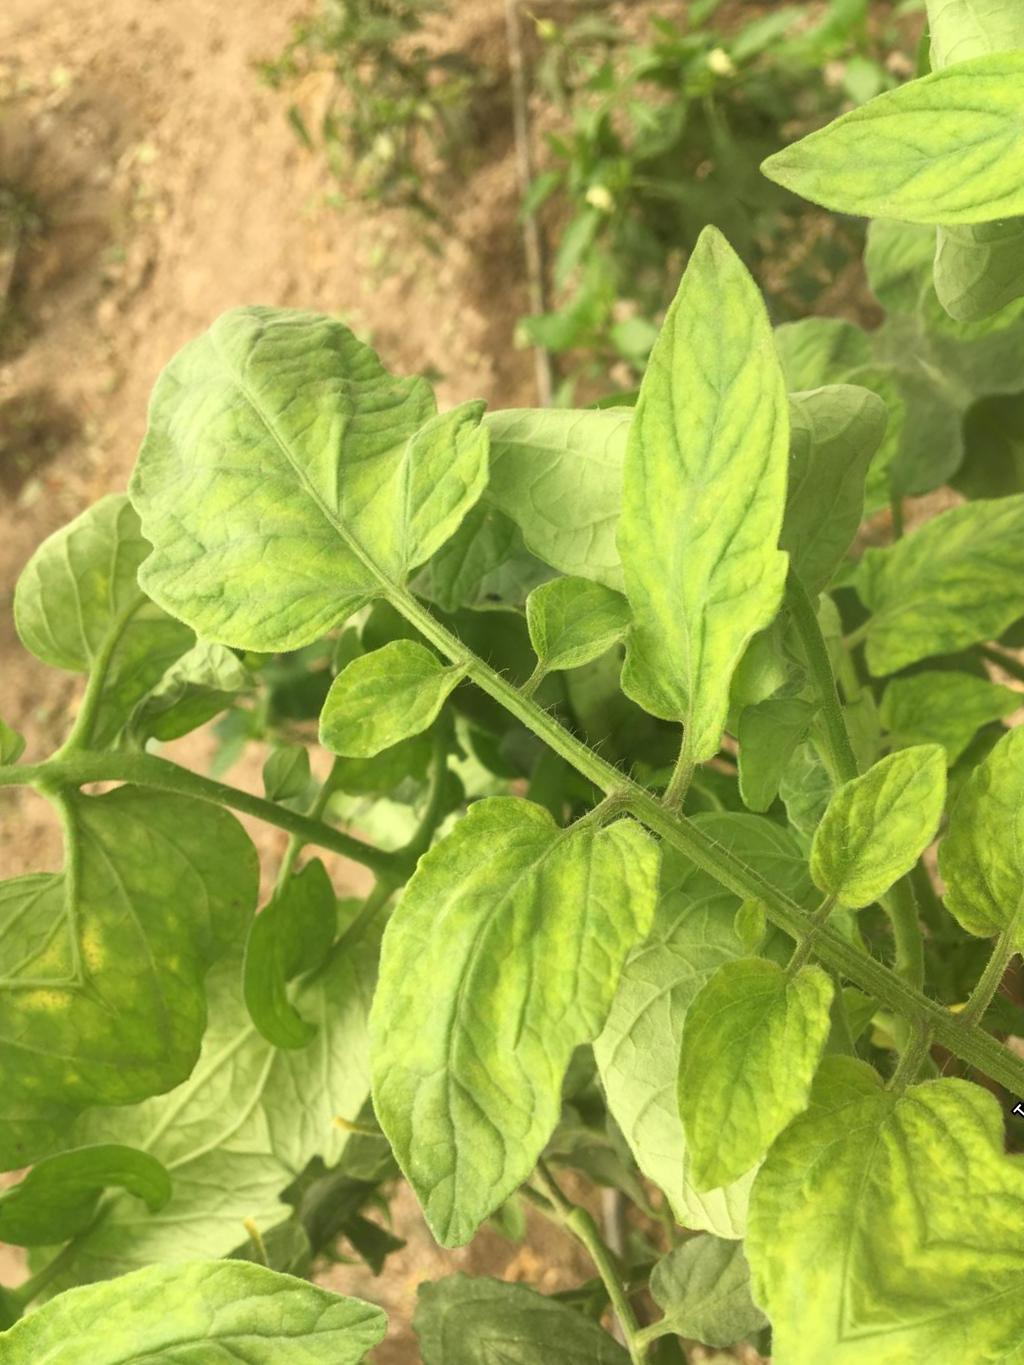Tomato leaf yellow virus: (230, 754, 759, 1291), (23, 213, 543, 735), (446, 233, 945, 738), (525, 849, 926, 1259), (850, 550, 1024, 1067)
